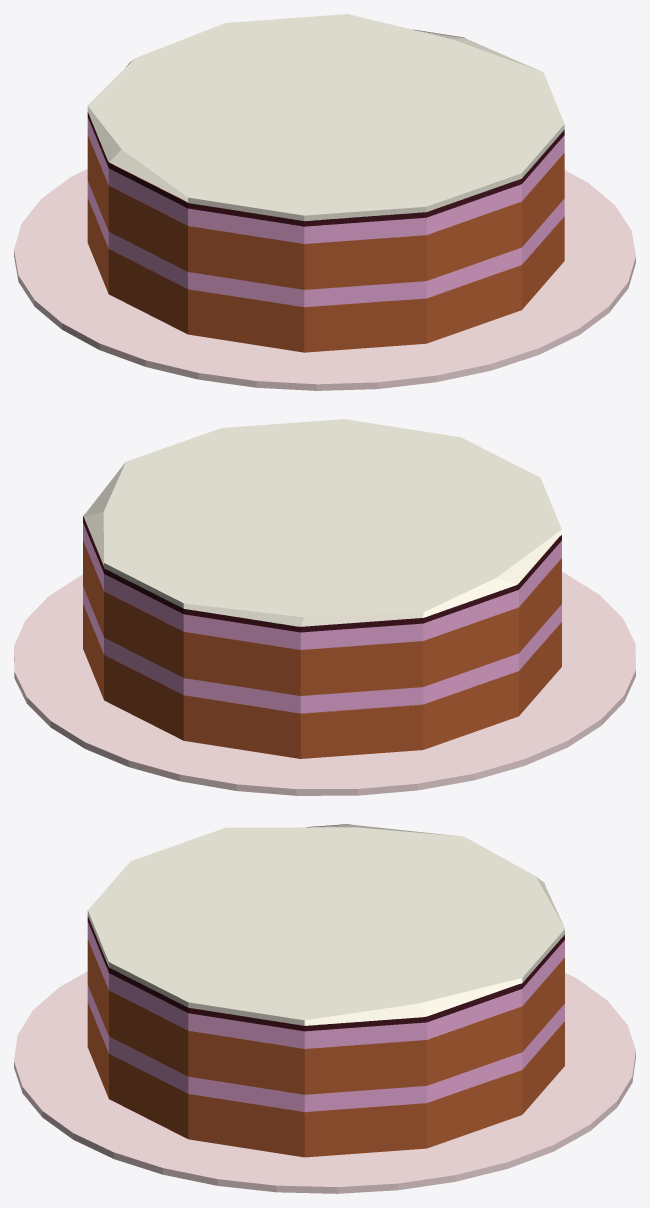
File: cake a.glb
3 renders of one model, top to bottom at view 1: azimuth 30°, elevation 25°; view 2: azimuth 150°, elevation 25°; view 3: azimuth 270°, elevation 25°, orthographic.
Visible parts, largest first — view 1: 1cake base top layer, plate, 4 cake base, 6 cake base lowest layer, 3 cake base, 5 cake base, 2 cake base below top; view 2: 1cake base top layer, plate, 4 cake base, 6 cake base lowest layer, 5 cake base, 3 cake base, 2 cake base below top; view 3: 1cake base top layer, plate, 4 cake base, 6 cake base lowest layer, 3 cake base, 5 cake base, 2 cake base below top.
Part boxes in pixels (x1,y1,x2,y2): 1cake base top layer: [87, 14, 564, 221]; plate: [14, 169, 635, 390]; 4 cake base: [87, 135, 564, 289]; 6 cake base lowest layer: [87, 198, 564, 352]; 3 cake base: [87, 117, 564, 243]; 5 cake base: [87, 181, 564, 307]; 2 cake base below top: [87, 29, 564, 226]; 1cake base top layer: [83, 419, 561, 626]; plate: [14, 572, 635, 795]; 4 cake base: [83, 540, 561, 695]; 6 cake base lowest layer: [83, 604, 561, 758]; 5 cake base: [83, 586, 561, 713]; 3 cake base: [83, 523, 561, 649]; 2 cake base below top: [83, 516, 561, 632]; 1cake base top layer: [87, 824, 564, 1025]; plate: [14, 971, 635, 1193]; 4 cake base: [87, 939, 564, 1094]; 6 cake base lowest layer: [87, 1002, 564, 1157]; 3 cake base: [87, 922, 564, 1048]; 5 cake base: [87, 985, 564, 1112]; 2 cake base below top: [87, 824, 564, 1031].
Bounding box in the file's own units: 1.97 × 0.5065 × 1.97.
